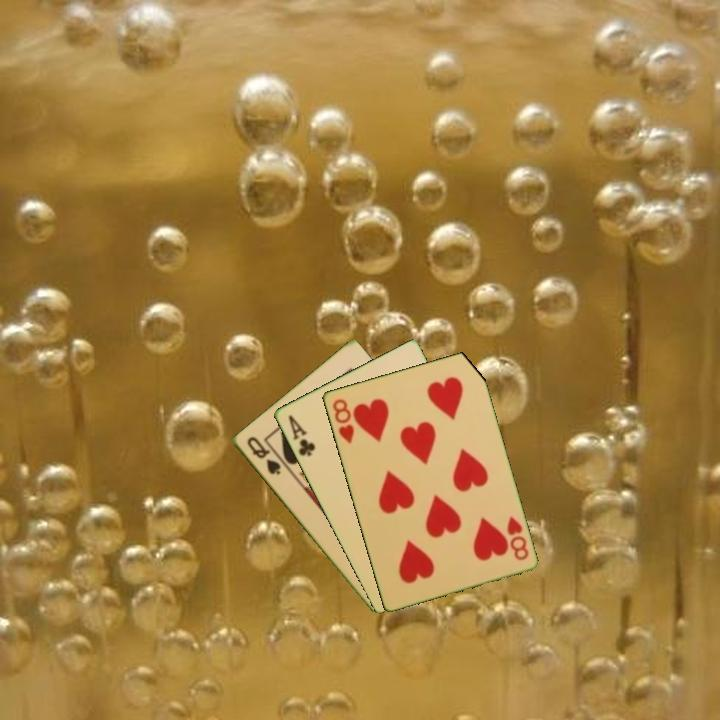8h: (329, 395, 357, 446), (503, 513, 531, 563)
Ac: (284, 411, 318, 459)
Qs: (243, 433, 283, 477)
